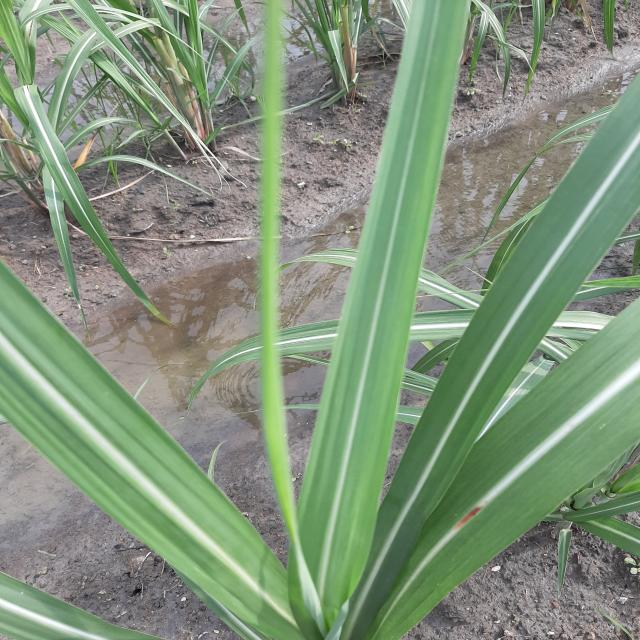Sugarcane: (1, 1, 639, 639)
